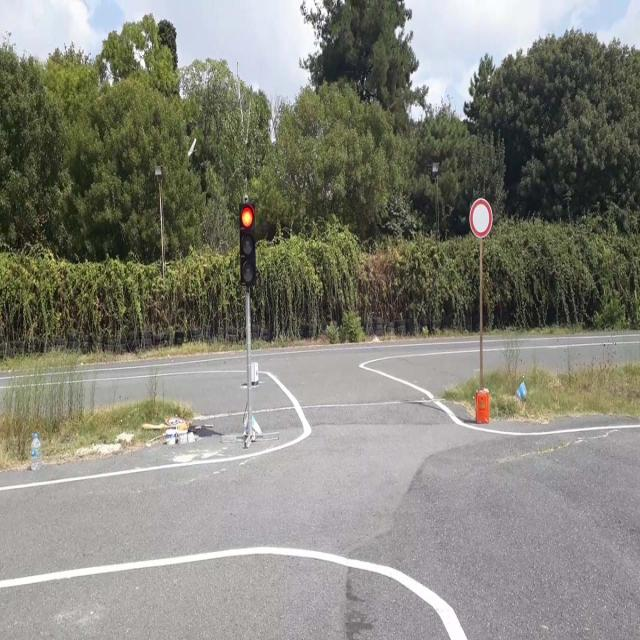kirmizi: (240, 203, 256, 288)
